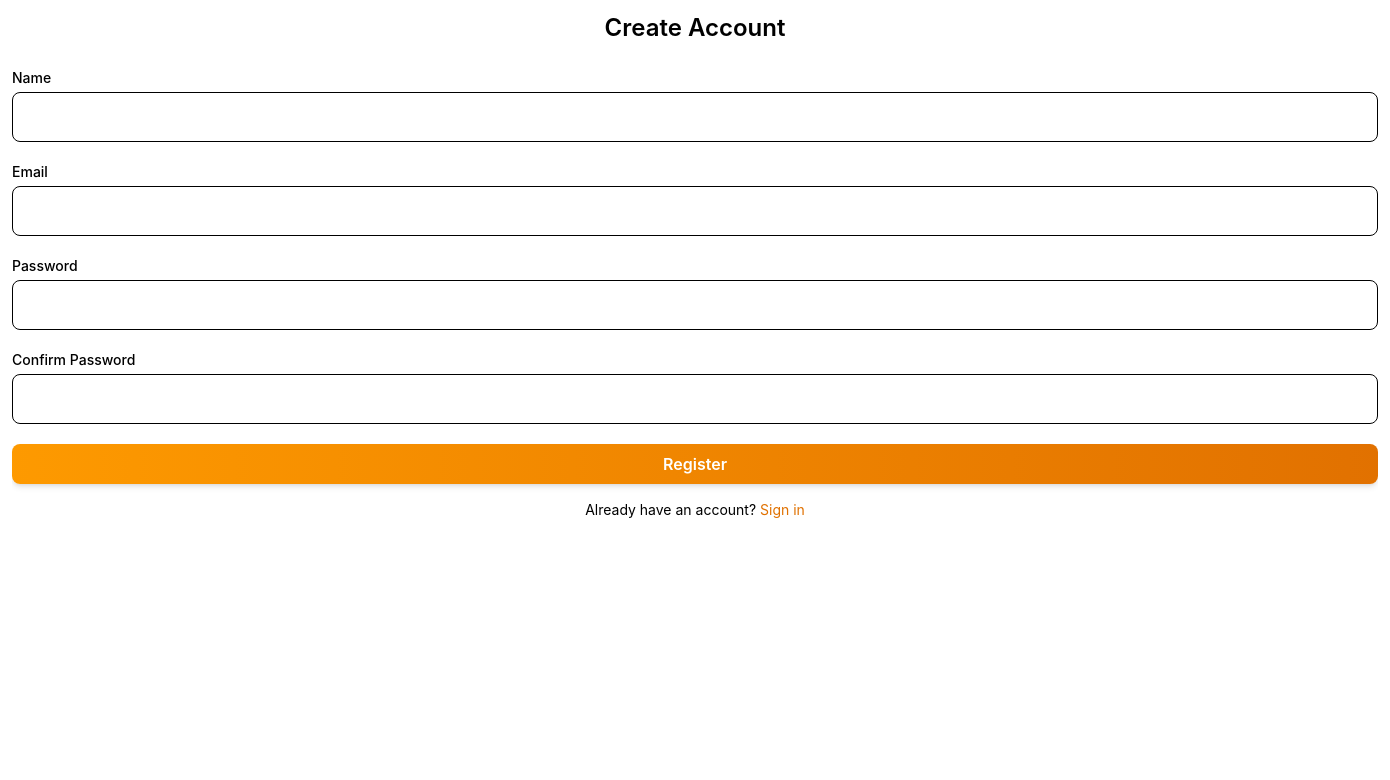
Test: Register › Form validation › shows error for empty name
Click the button "Register".
click(695, 464)  # box [12, 444, 1378, 484]
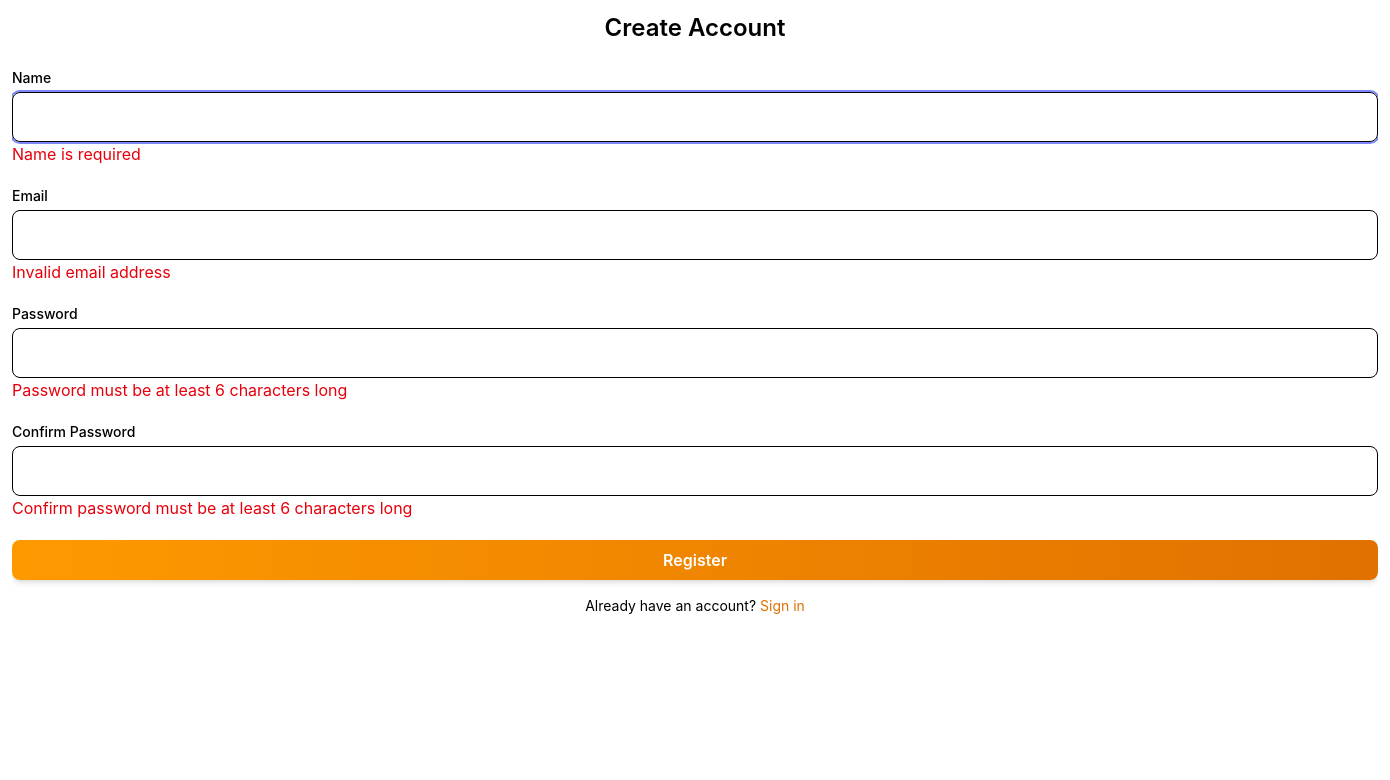
Check: the text "Name is required" is shown, box [12, 144, 141, 164]
